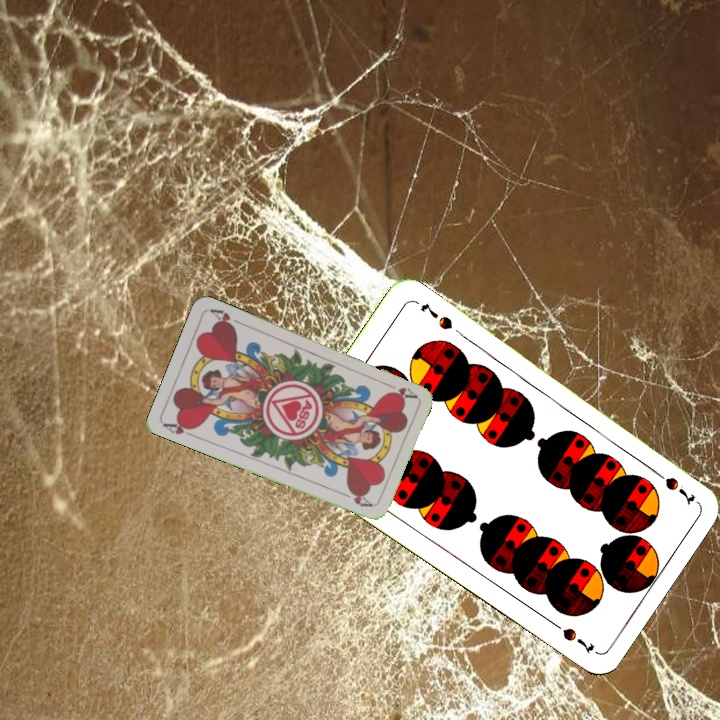HA: (160, 417, 199, 441), (380, 378, 419, 401)
S7: (647, 464, 698, 506)
